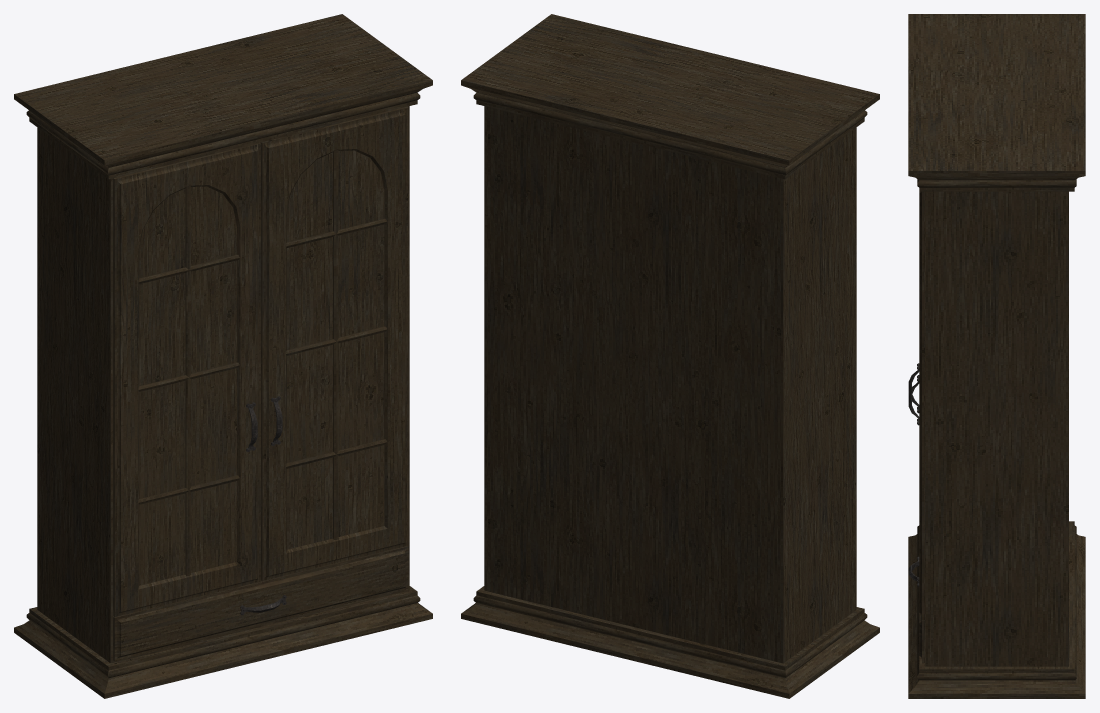
The model's file is wardrobe_mp_1_4.glb.
The picture shows the model from 3 angles, left to right: view 1: azimuth 30°, elevation 25°; view 2: azimuth 150°, elevation 25°; view 3: azimuth 270°, elevation 25°; orthographic projection. The views are drawn at different scales.
Parts seen in each view (by area): view 1: wardrobe_mp_1_4, wardrobe_mp_1_4_drawer; view 2: wardrobe_mp_1_4; view 3: wardrobe_mp_1_4, wardrobe_mp_1_4_drawer.
Boxes of the visible parts, x1,y1,x2,y2 form: wardrobe_mp_1_4: [14, 14, 432, 698]; wardrobe_mp_1_4_drawer: [113, 546, 408, 661]; wardrobe_mp_1_4: [461, 14, 879, 698]; wardrobe_mp_1_4: [908, 14, 1085, 698]; wardrobe_mp_1_4_drawer: [908, 556, 924, 662].
Size of the model in its own units: 1.34 by 2.1 by 0.64.
2 materials, 2 textured.
